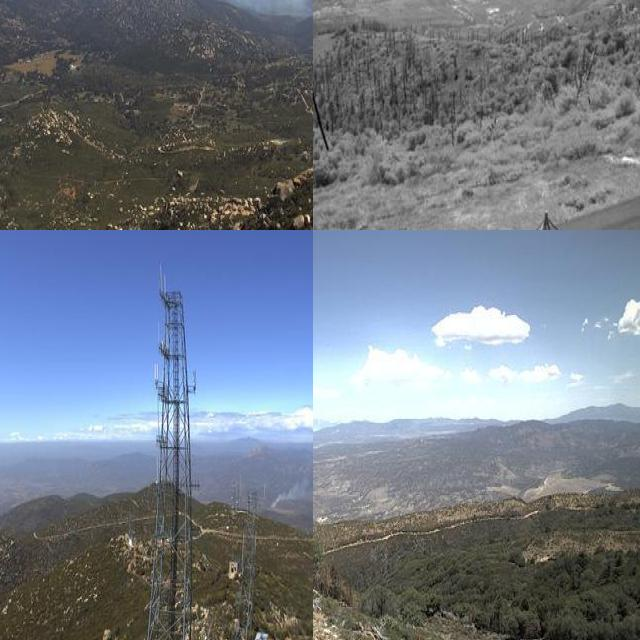smoke: (266, 464, 313, 514)
